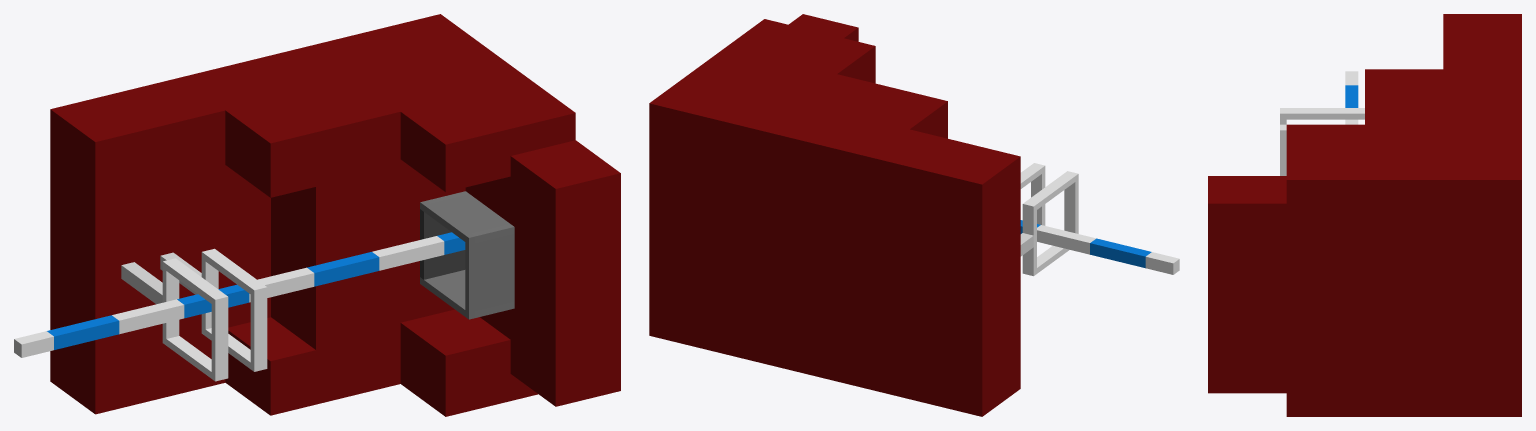
Rendered from 1x1 - monorail tunnel.obj.
The picture shows the model from 3 angles, left to right: view 1: azimuth 30°, elevation 25°; view 2: azimuth 150°, elevation 25°; view 3: azimuth 270°, elevation 25°; orthographic projection. The views are drawn at different scales.
Bounding box in the file's own units: 80 × 40 × 48.
1 material, 1 textured.
